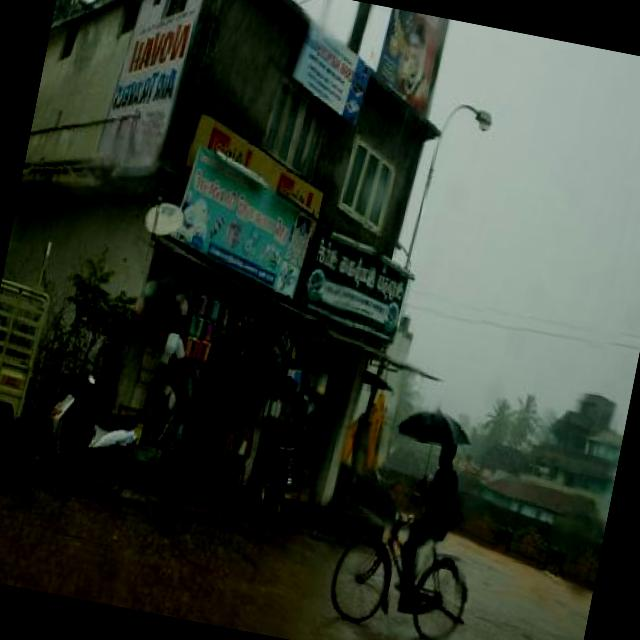Person: (394, 438, 466, 600), (250, 372, 304, 500), (216, 382, 264, 509), (160, 354, 206, 469), (183, 372, 230, 480), (289, 376, 312, 421)
